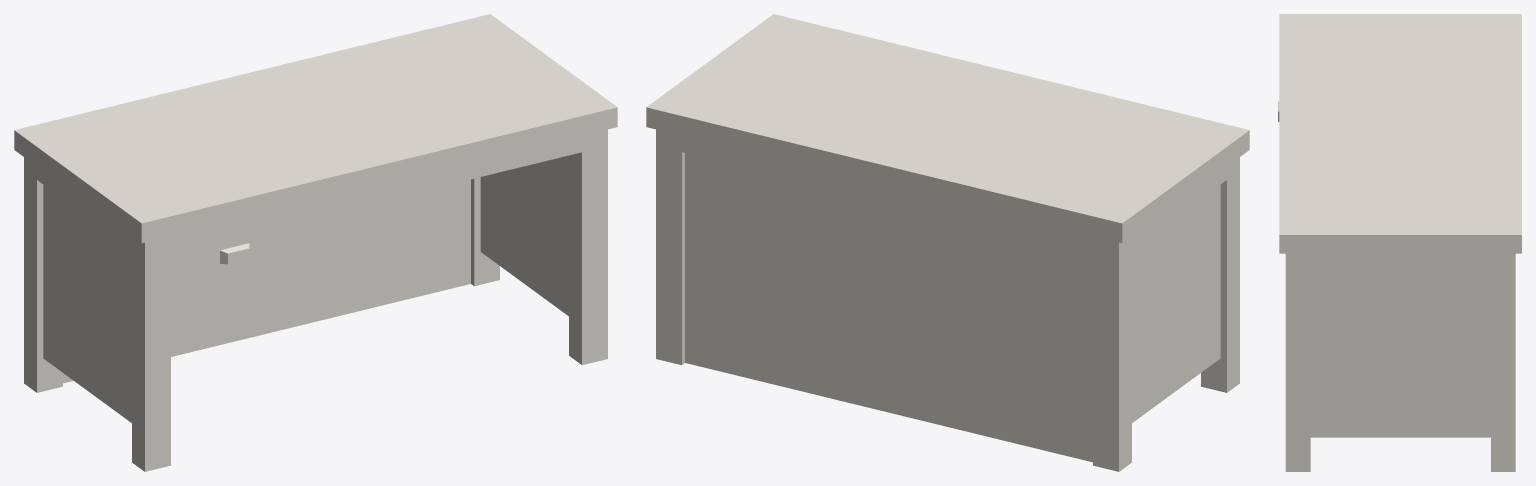
The model's file is pk_desk_white.glb.
3 views of the same model, side by side, from view 1: azimuth 30°, elevation 25°; view 2: azimuth 150°, elevation 25°; view 3: azimuth 270°, elevation 25° (orthographic). The views are drawn at different scales.
Parts seen in each view (by area): view 1: pk_desk_white; view 2: pk_desk_white; view 3: pk_desk_white.
Part boxes in pixels (x1,y1,x2,y2): pk_desk_white: (14, 14, 617, 471); pk_desk_white: (646, 14, 1249, 471); pk_desk_white: (1278, 14, 1521, 471).
Bounding box in the file's own units: 1.5 × 0.76 × 0.7.
1 material, 1 textured.
